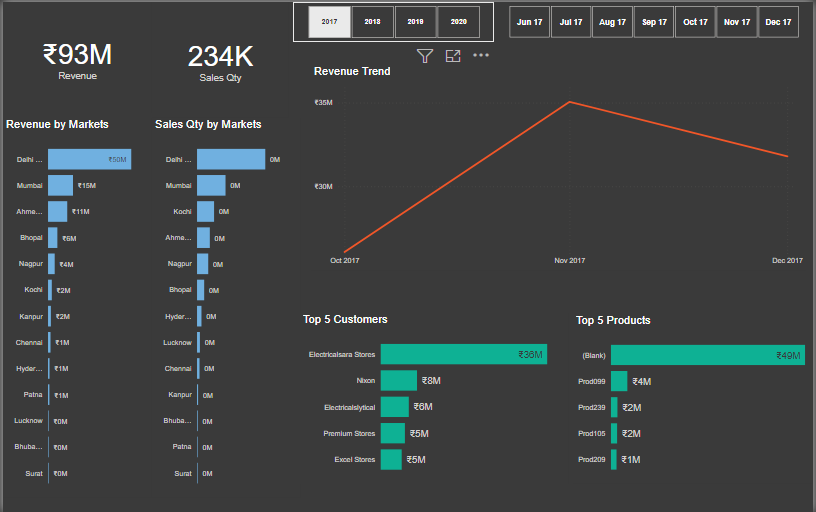

This screenshot's page, from the dashboard's own definition file:
{"tool":"powerbi","page":{"name":"Key Insights","canvas":[1350,850],"ordinal":0},"visuals":[{"type":"card","fields":{"Values":["BaseMeasures (2).Revenue"]},"box":[0,0,247.9,184.6],"z":0},{"type":"card","fields":{"Values":["BaseMeasures (2).Sales Qty"]},"box":[247.9,0,227.9,193.1],"z":1000},{"type":"barChart","title":"Revenue by Markets","fields":{"Y":["BaseMeasures (2).Revenue"],"Category":["sales markets.markets_name"]},"box":[0,193.1,247.9,631.9],"z":2000},{"type":"barChart","title":"Sales Qty by Markets","fields":{"Y":["BaseMeasures (2).Sales Qty"],"Category":["sales markets.markets_name"]},"box":[247.9,193.1,247.9,631.9],"z":3000},{"type":"slicer","fields":{"Values":["sales date.year"]},"box":[483.3,0,335,66.7],"z":4000},{"type":"slicer","fields":{"Values":["sales date.cy_date"]},"box":[818.6,0,531.7,66.5],"z":5000},{"type":"barChart","title":"Top 5 Customers","fields":{"Y":["BaseMeasures (2).Revenue"],"Category":["sales customers.custmer_name"]},"box":[495,518.3,446.7,285],"z":6000},{"type":"barChart","title":"Top 5 Products","fields":{"Y":["BaseMeasures (2).Revenue"],"Category":["sales products.product_code"]},"box":[950.7,519.2,399.5,282.8],"z":7000},{"type":"lineChart","title":"Revenue Trend","fields":{"Y":["BaseMeasures (2).Revenue"],"Category":["sales date.cy_date"]},"box":[513.3,105,825,341.7],"z":8000}]}

Visuals, with their boxes in screenshot pixels (x1, y1, x2, y2), scaled from the page's 1350x850 canvas onto the 816x512 screenshot:
card - BaseMeasures (2).Revenue: box(0, 0, 150, 111)
card - BaseMeasures (2).Sales Qty: box(150, 0, 288, 116)
"Revenue by Markets" barChart: box(0, 116, 150, 497)
"Sales Qty by Markets" barChart: box(150, 116, 300, 497)
slicer - sales date.year: box(292, 0, 495, 40)
slicer - sales date.cy_date: box(495, 0, 815, 40)
"Top 5 Customers" barChart: box(299, 312, 569, 484)
"Top 5 Products" barChart: box(575, 313, 815, 483)
"Revenue Trend" lineChart: box(310, 63, 809, 269)
